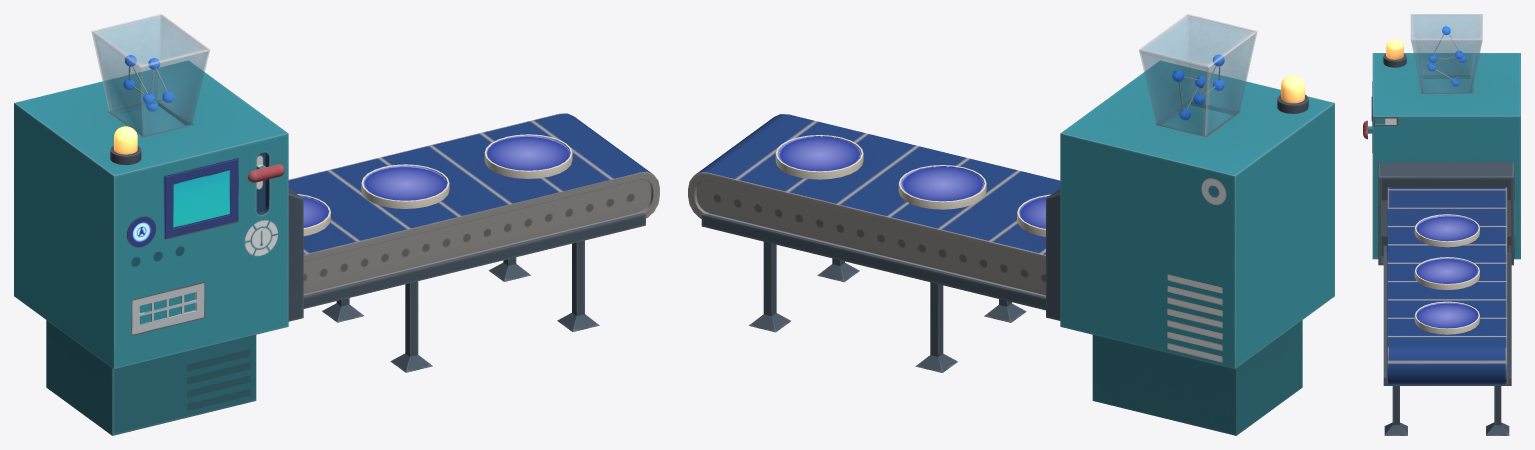
Rendered from machine.fbx.
The picture shows the model from 3 angles, left to right: view 1: azimuth 30°, elevation 25°; view 2: azimuth 150°, elevation 25°; view 3: azimuth 270°, elevation 25°; orthographic projection. The views are drawn at different scales.
Parts seen in each view (by area): view 1: Cube, Cube.003, Cube.001, Cube.007, Cube.004, Cylinder003, Cylinder002, Cube.006, Cube.005, Cube.013, Cylinder.002, Cylinder001 (+1 smaller); view 2: Cube, Cube.003, Cube.001, Cube.007, Cube.004, Cylinder002, Cylinder003, Cube.006, Cube.014, Cube.015, Cylinder.002, Cylinder001; view 3: Cube.003, Cube, Cube.007, Cube.006, Cylinder003, Cylinder001, Cylinder002, Cube.004, Cube.015, Cube.013, Cylinder.002, Cube.017 (+1 smaller).
Boxes of the visible parts, x1=… form: Cube: x1=14, y1=60, x2=288, y2=369; Cube.003: x1=288, y1=113, x2=659, y2=295; Cube.001: x1=46, y1=320, x2=256, y2=435; Cube.007: x1=91, y1=14, x2=209, y2=136; Cube.004: x1=303, y1=212, x2=645, y2=308; Cylinder003: x1=484, y1=134, x2=572, y2=178; Cylinder002: x1=361, y1=164, x2=449, y2=208; Cube.006: x1=288, y1=188, x2=303, y2=321; Cube.005: x1=390, y1=281, x2=432, y2=372; Cube.013: x1=557, y1=240, x2=599, y2=331; Cylinder.002: x1=110, y1=126, x2=141, y2=164; Cylinder001: x1=297, y1=194, x2=330, y2=236; Cube: x1=1060, y1=60, x2=1334, y2=369; Cube.003: x1=688, y1=114, x2=1060, y2=296; Cube.001: x1=1092, y1=320, x2=1302, y2=435; Cube.007: x1=1139, y1=14, x2=1257, y2=136; Cube.004: x1=701, y1=213, x2=1045, y2=310; Cylinder002: x1=898, y1=165, x2=986, y2=209; Cylinder003: x1=775, y1=135, x2=863, y2=179; Cube.006: x1=1046, y1=188, x2=1060, y2=320; Cube.014: x1=915, y1=282, x2=957, y2=372; Cube.015: x1=749, y1=241, x2=790, y2=332; Cylinder.002: x1=1277, y1=75, x2=1308, y2=113; Cylinder001: x1=1017, y1=194, x2=1050, y2=237; Cube.003: x1=1387, y1=187, x2=1507, y2=384; Cube: x1=1372, y1=53, x2=1520, y2=259; Cube.007: x1=1410, y1=14, x2=1482, y2=92; Cube.006: x1=1378, y1=162, x2=1513, y2=265; Cylinder003: x1=1414, y1=301, x2=1479, y2=334; Cylinder001: x1=1414, y1=214, x2=1479, y2=247; Cylinder002: x1=1414, y1=257, x2=1479, y2=290; Cube.004: x1=1383, y1=245, x2=1511, y2=385; Cube.015: x1=1486, y1=386, x2=1509, y2=435; Cube.013: x1=1384, y1=386, x2=1407, y2=435; Cylinder.002: x1=1383, y1=39, x2=1406, y2=67; Cube.017: x1=1427, y1=50, x2=1463, y2=86.
Size of the model in its own units: 379 by 231 by 126.
2 materials, 2 textured.
